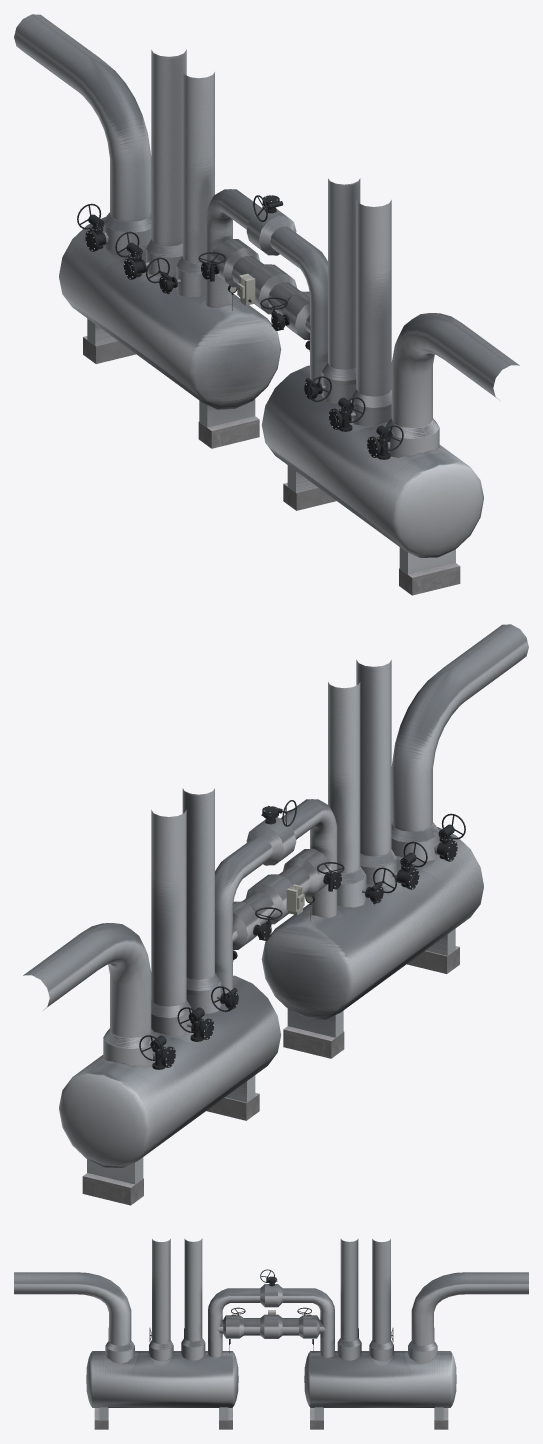
The model's file is LX_jishuiqi.glb.
3 renders of one model, top to bottom at view 1: azimuth 30°, elevation 25°; view 2: azimuth 150°, elevation 25°; view 3: azimuth 270°, elevation 25°, orthographic. The views are drawn at different scales.
Bounding box in the file's own units: 1.63 × 5.84 × 14.72.
1 material, 1 textured.
